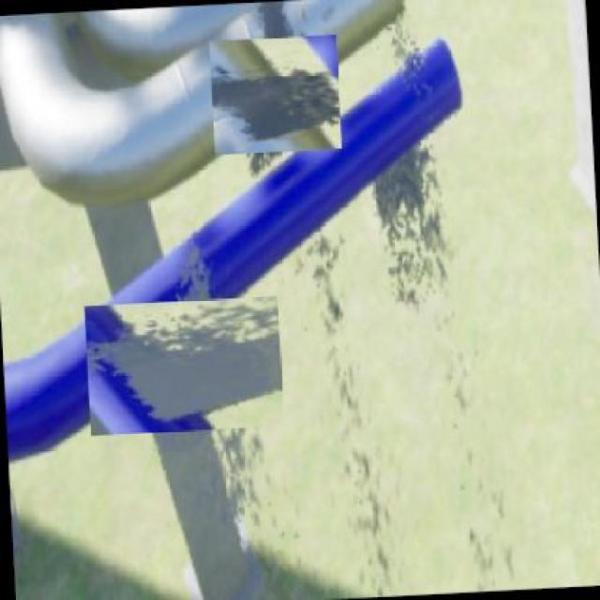gas: (108, 116, 490, 399)
